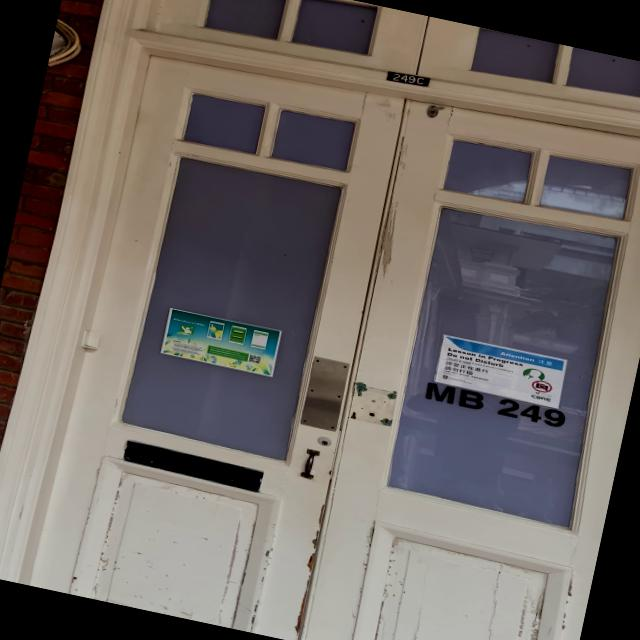room249c: (380, 64, 433, 90)
room249cWindow: (420, 378, 570, 433)
